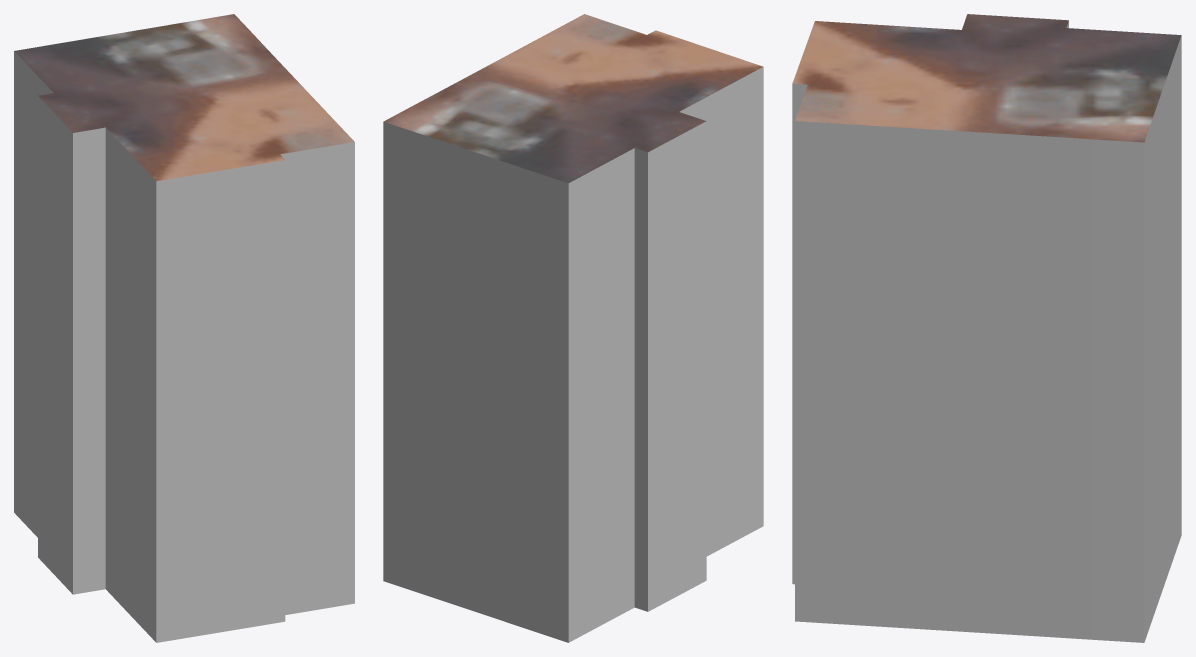
Rendered from DEBW_0010007Txgf.gltf.
3 views of the same model, side by side, from view 1: azimuth 30°, elevation 25°; view 2: azimuth 150°, elevation 25°; view 3: azimuth 270°, elevation 25° (orthographic). The views are drawn at different scales.
Visible parts, largest first — view 1: Z_UP; view 2: Z_UP; view 3: Z_UP.
Part boxes in pixels (bbox=[...]): Z_UP: bbox=[14, 14, 354, 642]; Z_UP: bbox=[383, 14, 763, 642]; Z_UP: bbox=[792, 14, 1181, 642].
Size of the model in its own units: 9.98 by 18.12 by 12.77.
2 materials, 1 textured.
